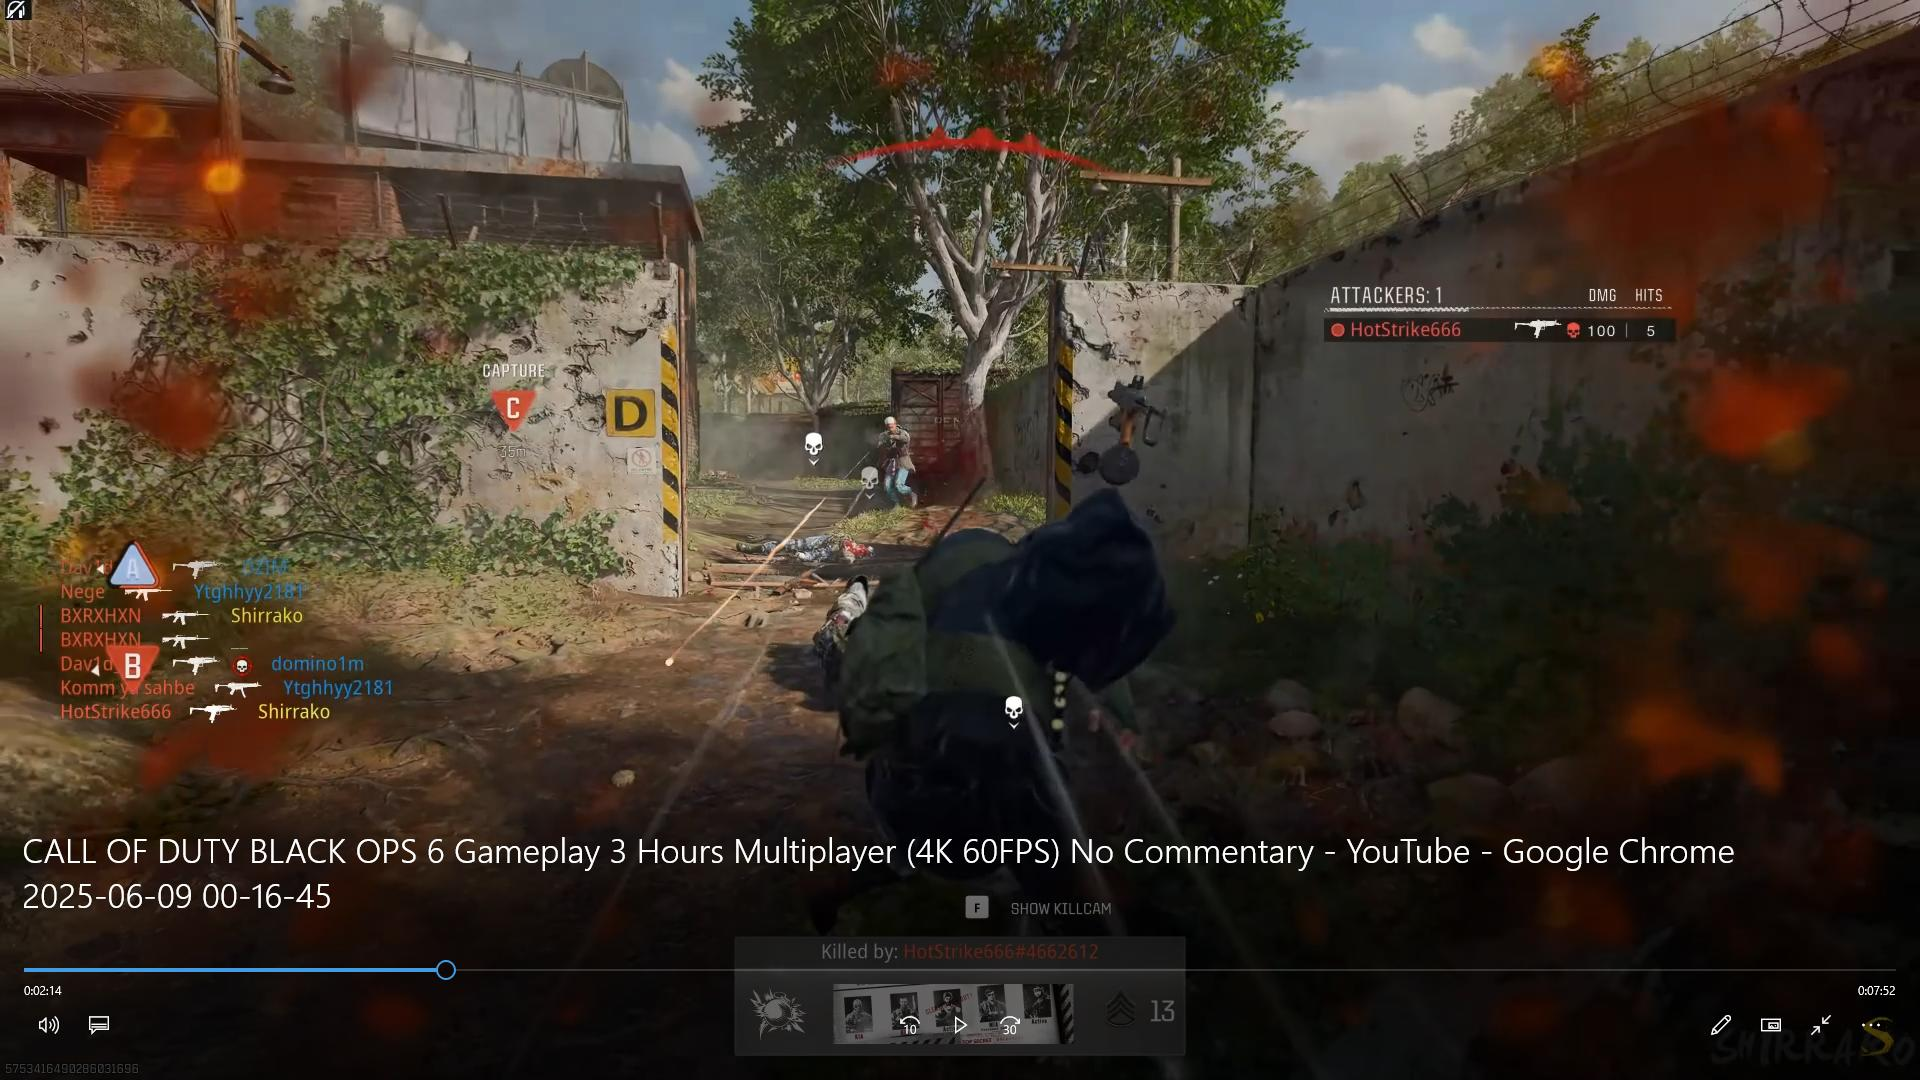Enemy: (860, 413, 928, 506)
